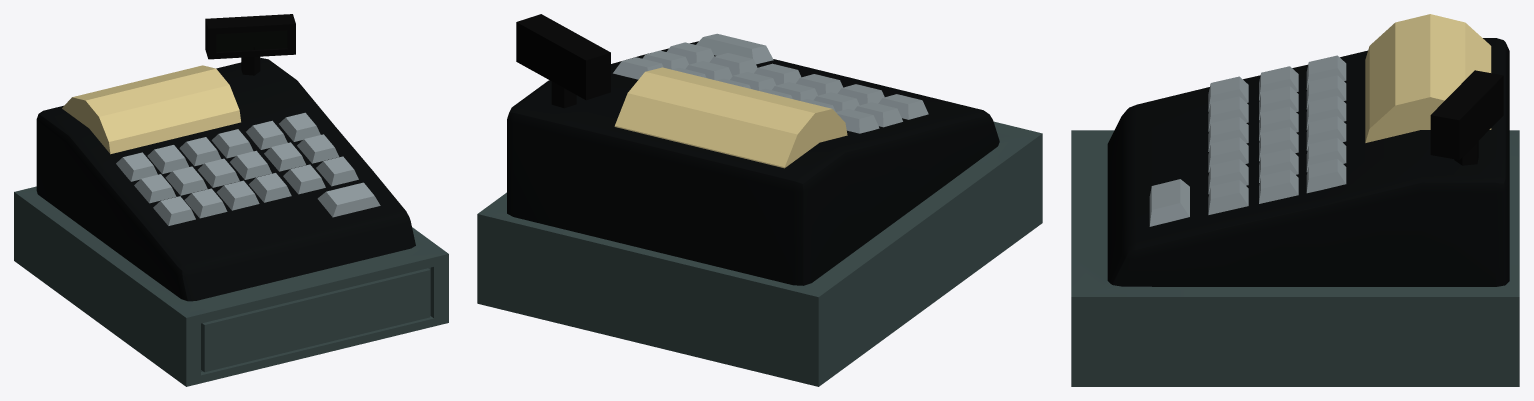
The model's file is Cash Register.fbx.
3 renders of one model, left to right at view 1: azimuth 30°, elevation 25°; view 2: azimuth 150°, elevation 25°; view 3: azimuth 270°, elevation 25°, orthographic. The views are drawn at different scales.
Parts seen in each view (by area): view 1: pCylinder40; view 2: pCylinder40; view 3: pCylinder40.
Boxes of the visible parts, x1=… form: pCylinder40: x1=14, y1=14, x2=448, y2=386; pCylinder40: x1=477, y1=14, x2=1042, y2=386; pCylinder40: x1=1071, y1=14, x2=1519, y2=386.
Bounding box in the file's own units: 1.45 × 1.06 × 1.65.
